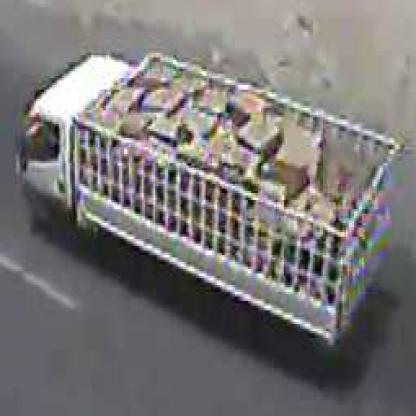truck: (22, 56, 389, 360)
